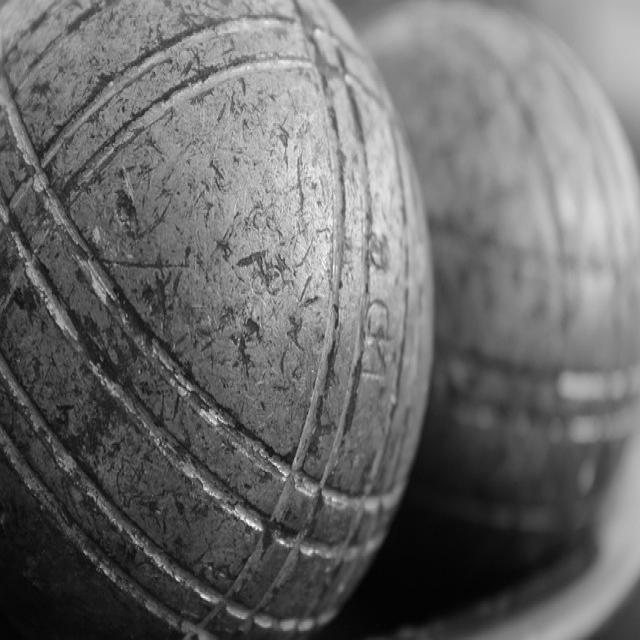petanque: (0, 0, 434, 639), (319, 0, 639, 639)
